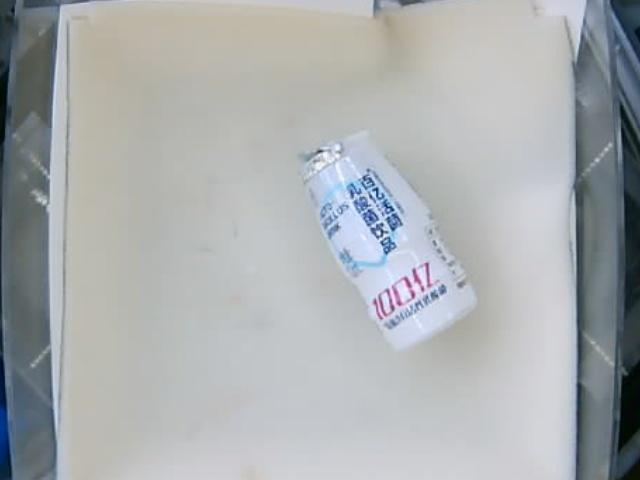Bottle: (296, 134, 479, 355)
